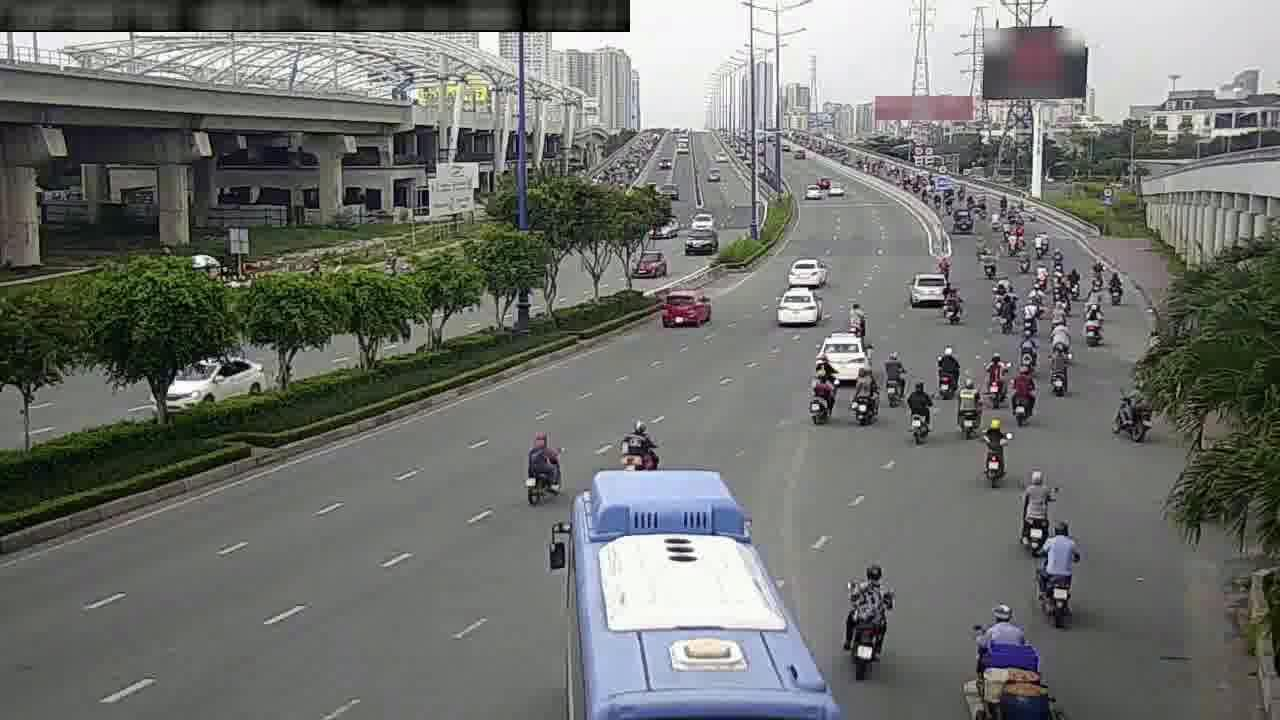14: (564, 465, 825, 719)
container: (815, 326, 875, 380), (654, 284, 713, 329), (769, 278, 823, 327), (906, 271, 951, 310), (782, 257, 822, 285)
motorbike: (976, 619, 1048, 707), (842, 572, 889, 671), (1033, 528, 1079, 614), (519, 423, 563, 504), (618, 407, 664, 477), (1013, 466, 1055, 541), (1110, 382, 1156, 444), (974, 421, 1012, 485), (902, 382, 939, 444), (804, 364, 839, 425), (846, 367, 880, 423), (934, 341, 964, 398), (877, 348, 909, 401), (936, 282, 971, 329), (1006, 370, 1038, 419), (956, 378, 983, 433), (979, 352, 1010, 399), (1078, 303, 1109, 349), (1047, 320, 1078, 366), (839, 295, 871, 337), (1011, 323, 1040, 367), (1047, 347, 1070, 395), (1102, 265, 1129, 304), (996, 295, 1017, 335)
